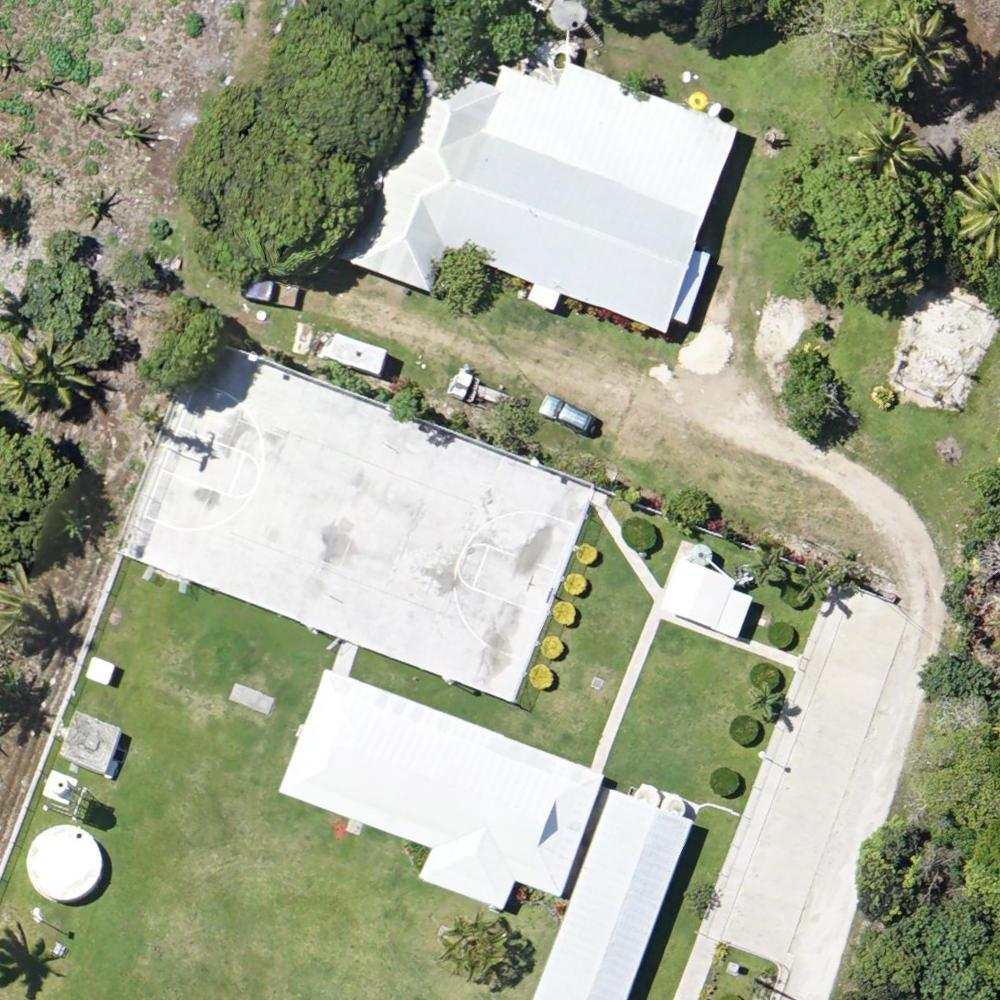Palm: (876, 11, 954, 84), (851, 112, 919, 181), (2, 334, 59, 411)
